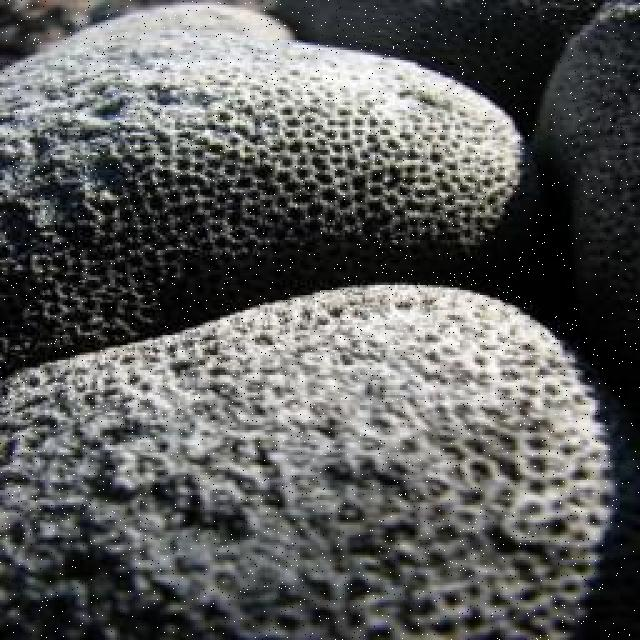reefs: (0, 281, 615, 638), (0, 2, 524, 369), (536, 3, 638, 297)
